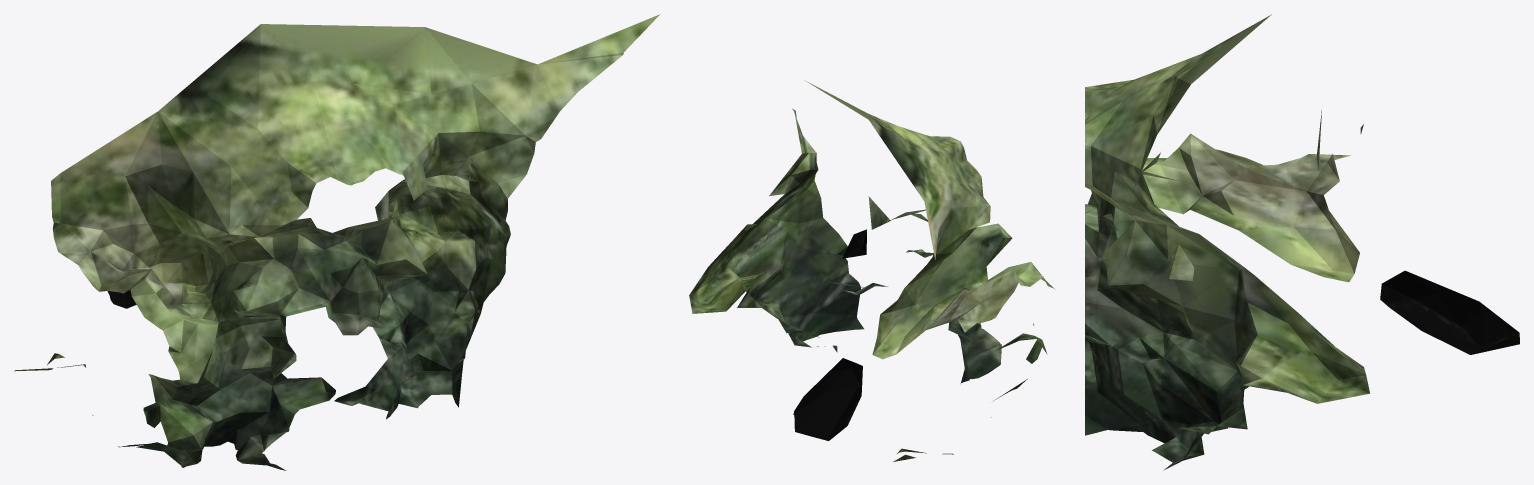
3 views of the same model, side by side, from view 1: azimuth 30°, elevation 25°; view 2: azimuth 150°, elevation 25°; view 3: azimuth 270°, elevation 25° (orthographic). The views are drawn at different scales.
Bounding box in the file's own units: 33.16 × 24.39 × 24.94.
2 materials, 2 textured.
